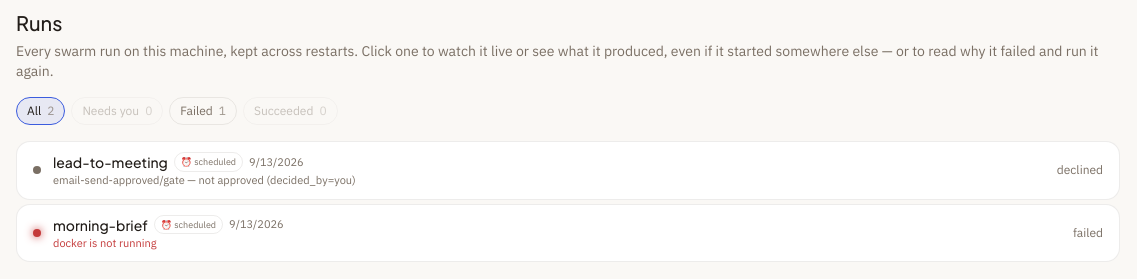
a run you declined › is not listed under the Failed filter
This screenshot has width=1137, height=279.
Click the button "Failed1" at (203, 111), box [169,97,237,125]
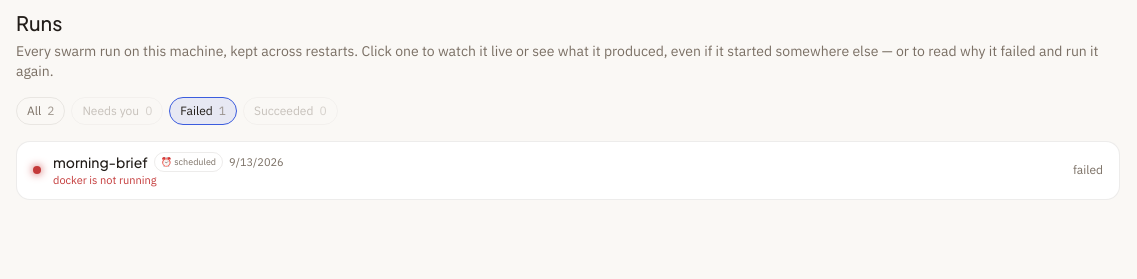
Expected: the text "morning-brief" is shown, [53,152,148,172]
Now the button "lead-to-meeting" is gone
